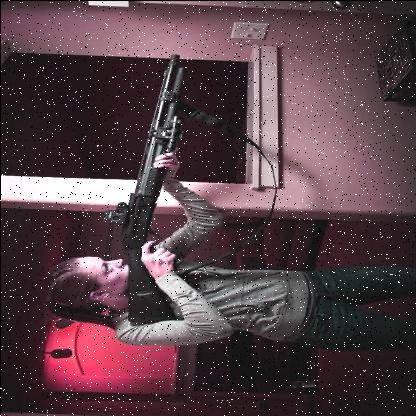rifle: (101, 49, 207, 327)
